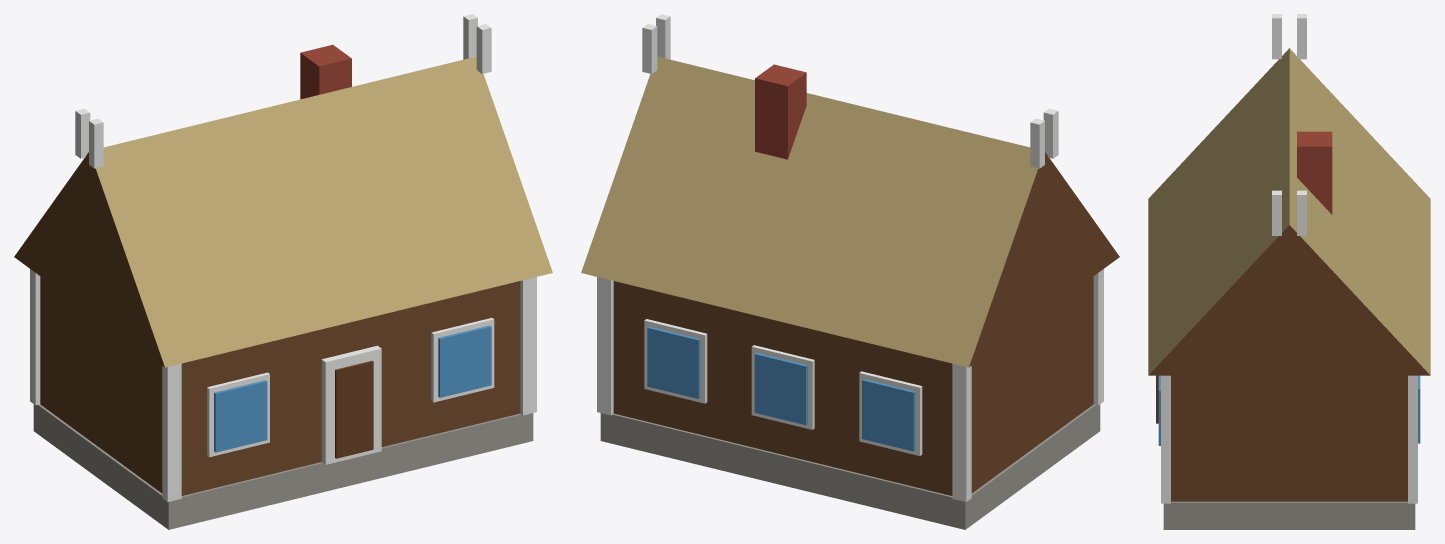
Rendered from 68_nida_wood_2.obj.
The picture shows the model from 3 angles, left to right: view 1: azimuth 30°, elevation 25°; view 2: azimuth 150°, elevation 25°; view 3: azimuth 270°, elevation 25°; orthographic projection. The views are drawn at different scales.
Parts seen in each view (by area): view 1: 68_nida_wood_2; view 2: 68_nida_wood_2; view 3: 68_nida_wood_2.
Boxes of the visible parts, x1,y1,x2,y2 form: 68_nida_wood_2: (14, 14, 552, 529); 68_nida_wood_2: (581, 14, 1119, 529); 68_nida_wood_2: (1148, 14, 1430, 529).
Bounding box in the file's own units: 1.7 × 1.5 × 1.12.
